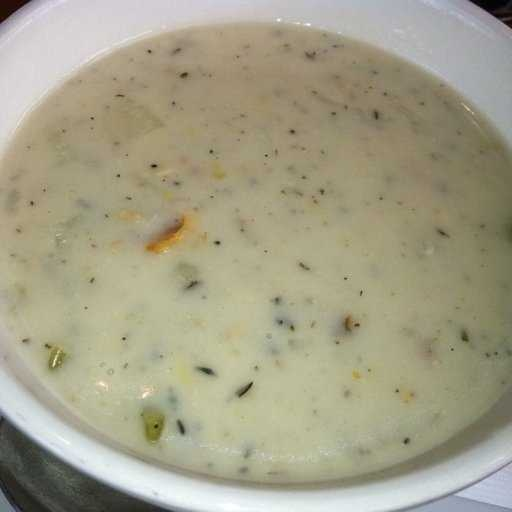soup: (14, 37, 489, 463)
